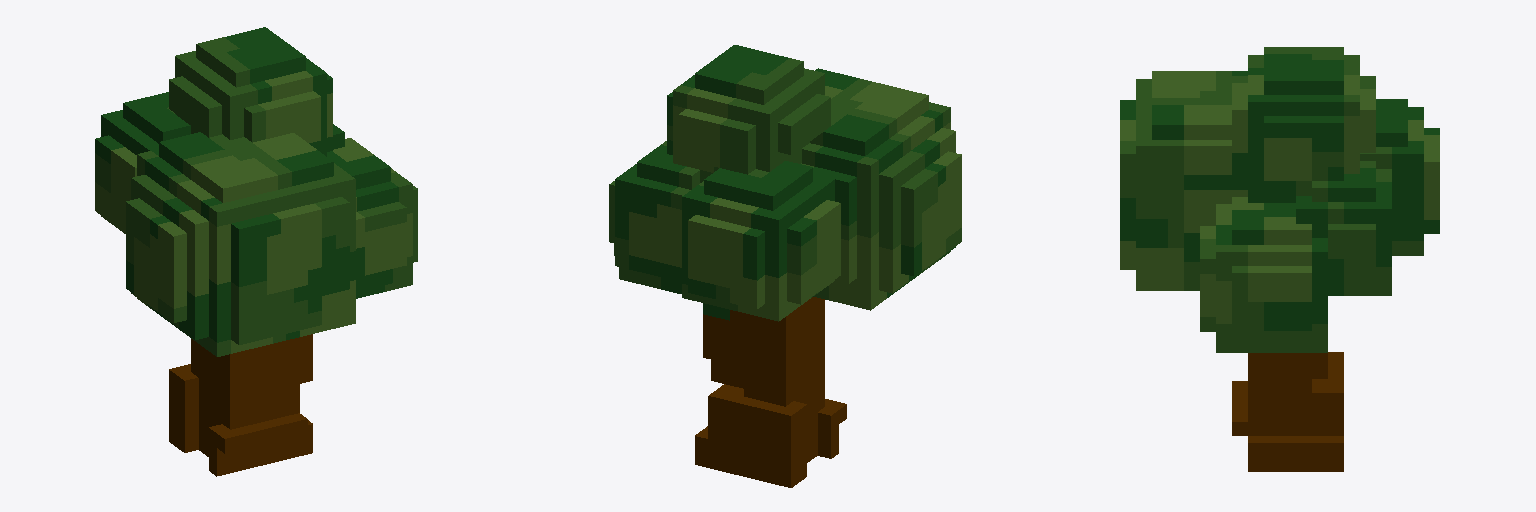
3 renders of one model, left to right at view 1: azimuth 30°, elevation 25°; view 2: azimuth 150°, elevation 25°; view 3: azimuth 270°, elevation 25°, orthographic.
Bounding box in the file's own units: 20 × 27 × 20.
1 materials, 1 textured.